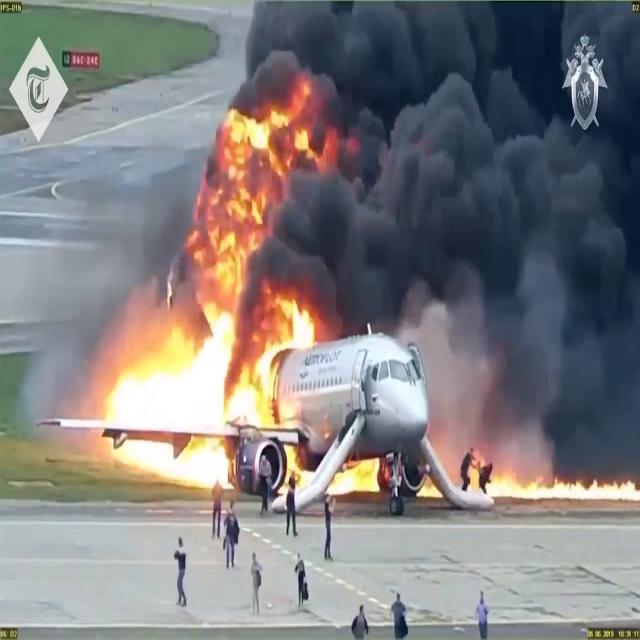Fire: (98, 86, 322, 487), (96, 280, 320, 485), (425, 446, 640, 506), (332, 452, 387, 498)
Smoke: (240, 2, 640, 330)
